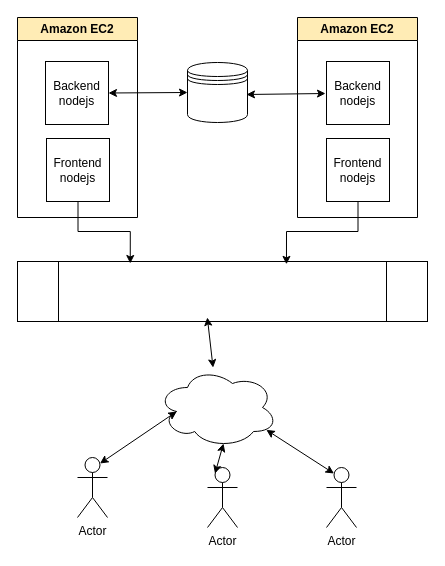
This 445x566 diagram has some shape labels left out. Here are the shapes that lost their labels. From the top down, the centre of each, then its label:
point (217, 92): MongoDB
point (222, 291): Load Balancer
point (217, 407): Domain Name
